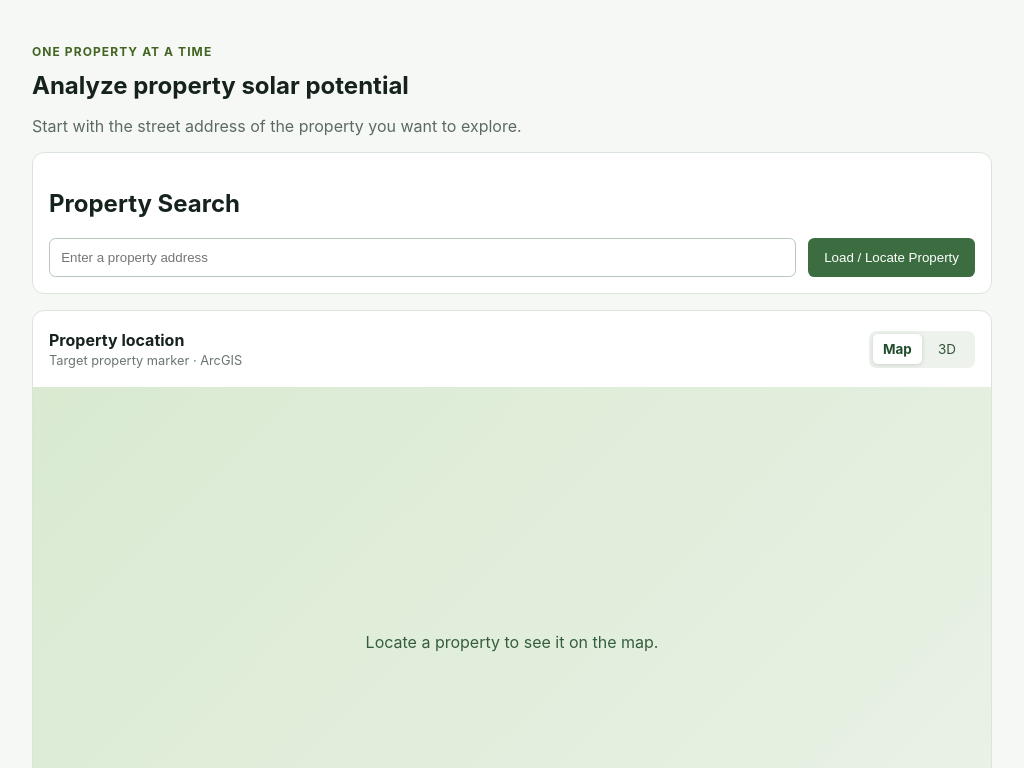
Scenario: Analyze property search › shows a no-match message without saving
Type "380 New York St, Redlands CA" into the field labelled "property address" at x=423, y=258, box left=49, top=238, right=796, bottom=277
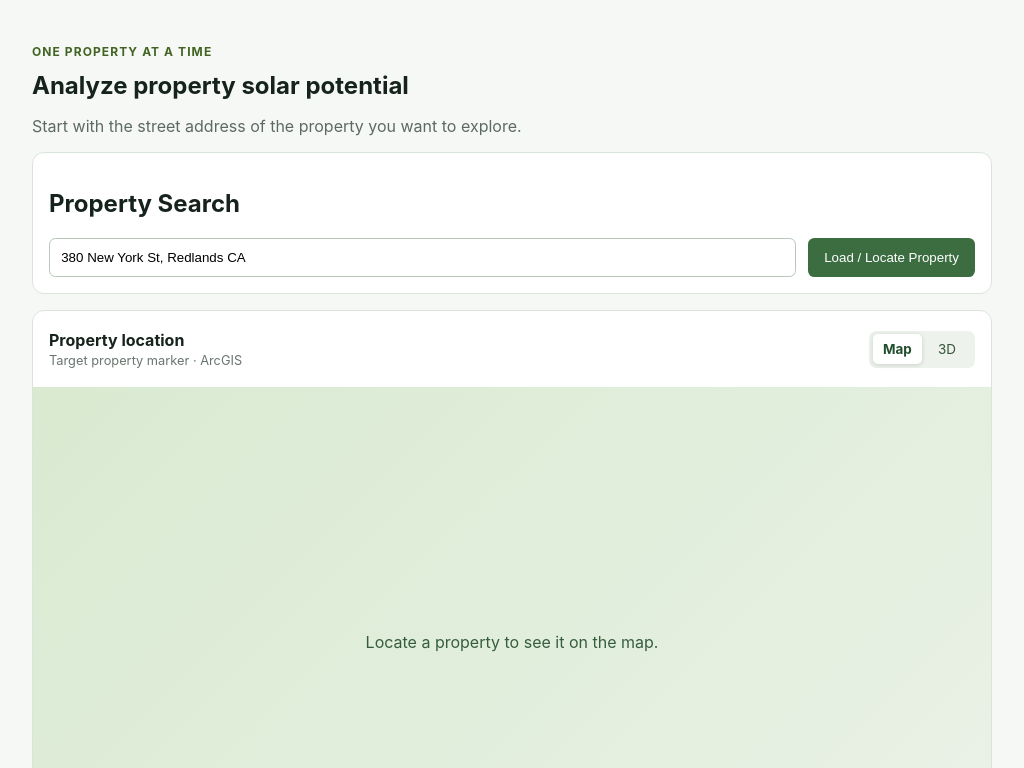
Click the button "Load / Locate Property" at x=892, y=258, box left=808, top=238, right=975, bottom=277
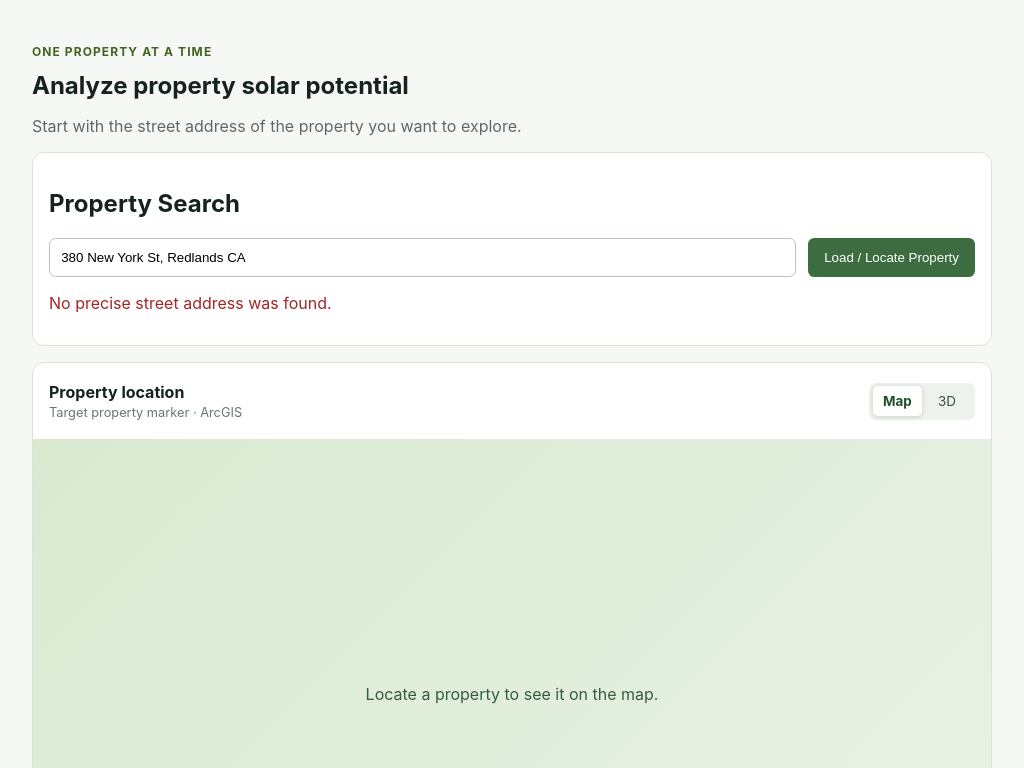
expect the message reads "No precise street address was found.": met, box left=49, top=293, right=332, bottom=313
